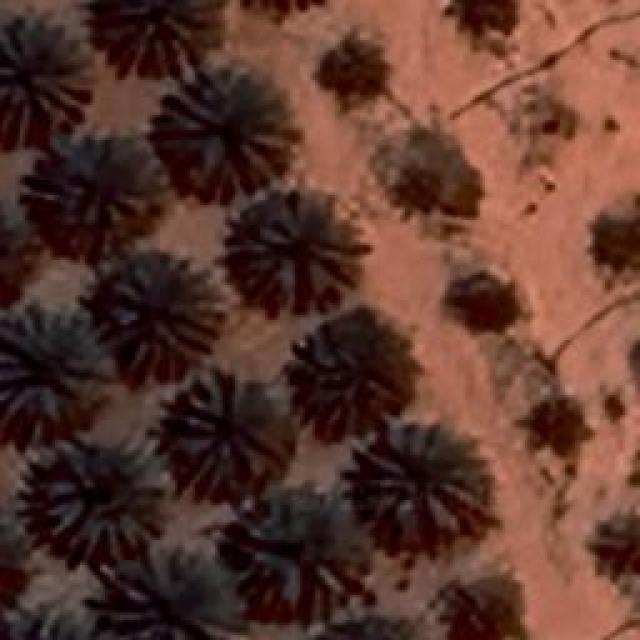PalmTree: (55, 33, 162, 623), (154, 62, 298, 200), (38, 430, 170, 560), (225, 190, 365, 310), (227, 490, 355, 612), (172, 367, 288, 495), (108, 250, 225, 372), (362, 420, 490, 530), (41, 132, 149, 246), (0, 12, 95, 138), (298, 316, 406, 426), (0, 305, 95, 420), (103, 557, 228, 640), (325, 40, 400, 110), (450, 574, 520, 638), (528, 388, 588, 458), (587, 502, 640, 575), (314, 609, 430, 640), (0, 195, 30, 308), (391, 160, 444, 222), (458, 274, 512, 334), (446, 0, 522, 40), (607, 206, 640, 278), (1, 512, 23, 613), (0, 193, 19, 306), (222, 0, 341, 18), (318, 621, 429, 640), (0, 510, 16, 612), (221, 0, 339, 11)
